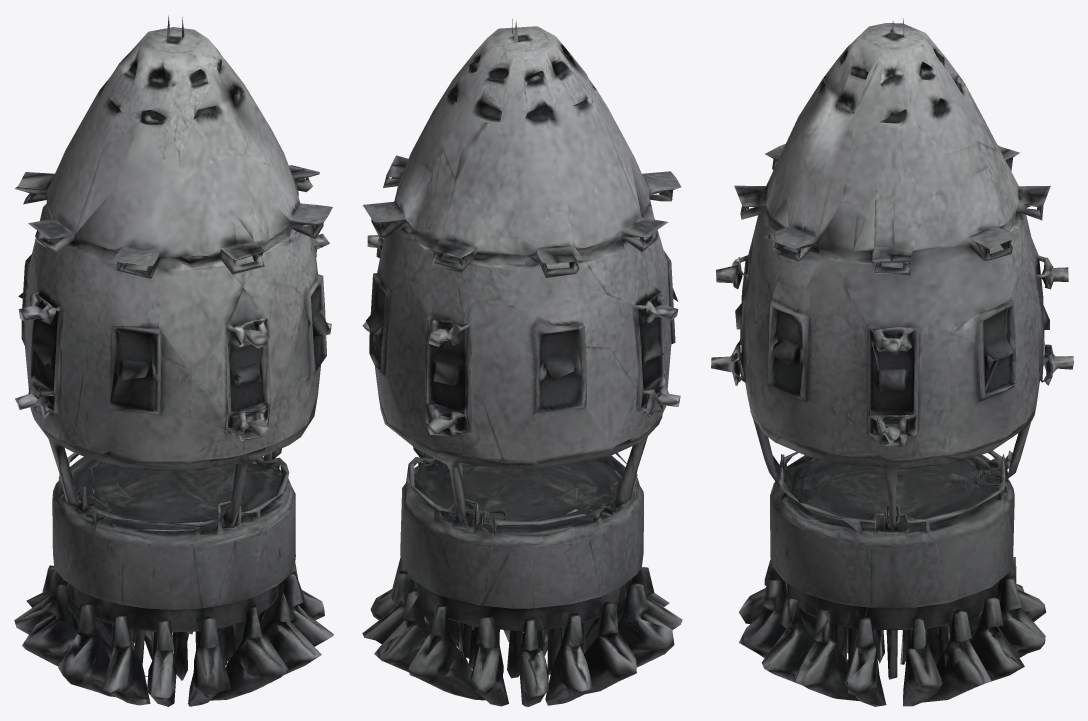
File: p_drop_pod.glb
3 views of the same model, side by side, from view 1: azimuth 30°, elevation 25°; view 2: azimuth 150°, elevation 25°; view 3: azimuth 270°, elevation 25° (orthographic).
Size of the model in its own units: 0.9277 by 1.9 by 0.929.
Materials: 1 (1 with a texture image).
